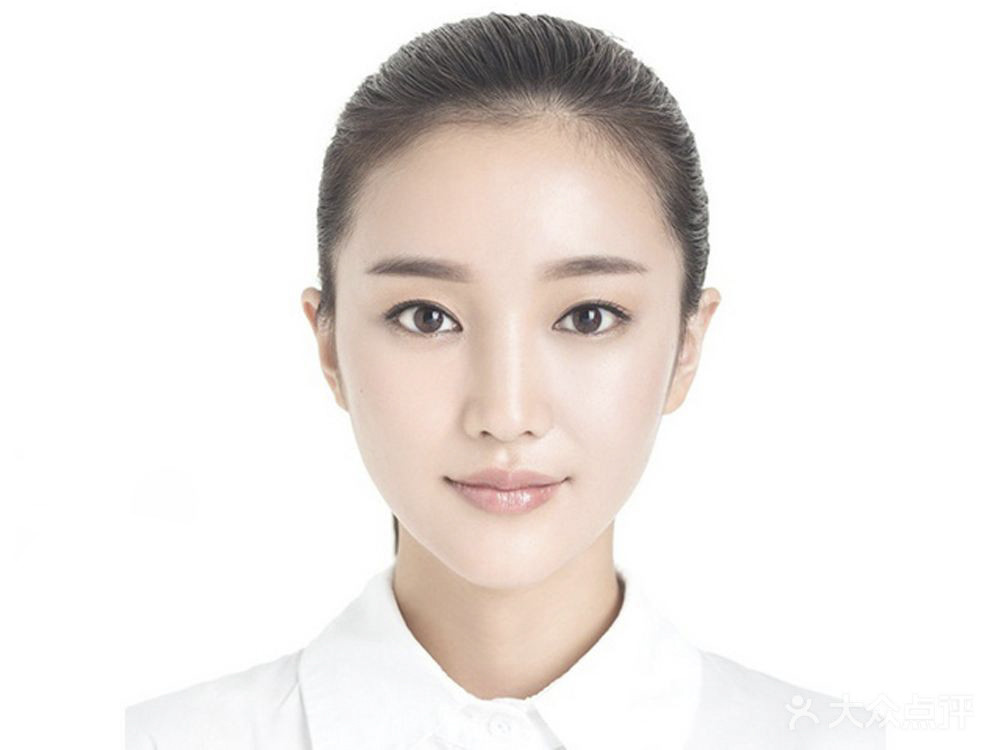unmask: (345, 174, 686, 585)
